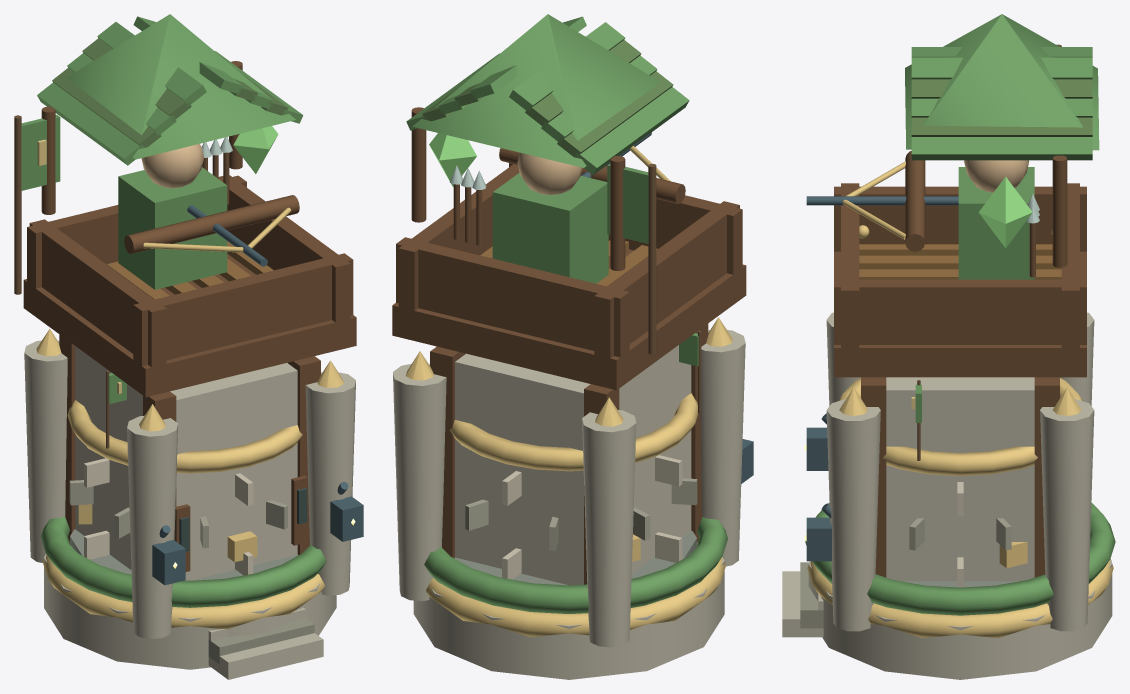
Rendered from tower-arrow-3-0.glb.
3 renders of one model, left to right at view 1: azimuth 30°, elevation 25°; view 2: azimuth 150°, elevation 25°; view 3: azimuth 270°, elevation 25°, orthographic. The views are drawn at different scales.
Visible parts, largest first — view 1: Foundation, Turret, arrow-L3-0; view 2: Foundation, Turret, arrow-L3-0; view 3: Turret, Foundation, arrow-L3-0.
Boxes of the visible parts, x1,y1,x2,y2 form: Foundation: (14, 115, 363, 679); Turret: (23, 14, 356, 397); arrow-L3-0: (44, 529, 336, 669); Foundation: (393, 163, 753, 647); Turret: (392, 14, 746, 390); arrow-L3-0: (413, 530, 724, 679); Turret: (806, 14, 1099, 377); Foundation: (782, 44, 1115, 638); arrow-L3-0: (808, 560, 1112, 679).
Bounding box in the file's own units: 1.72 × 3.67 × 1.84.
